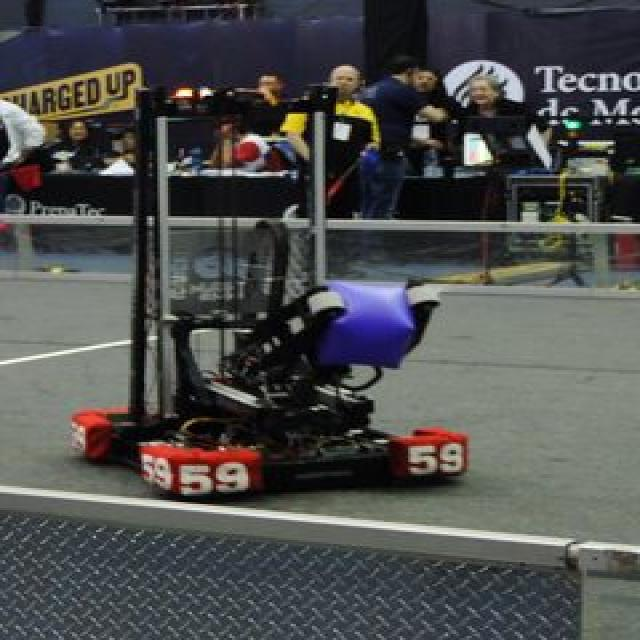robot: (60, 73, 482, 502)
